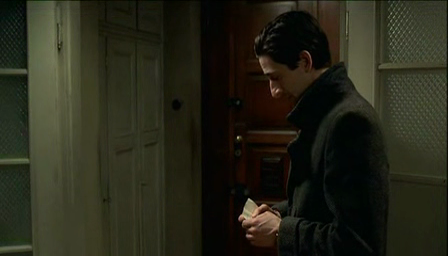face: (258, 62, 302, 111)
ms: (1, 1, 448, 256)
person: (238, 11, 389, 256)
